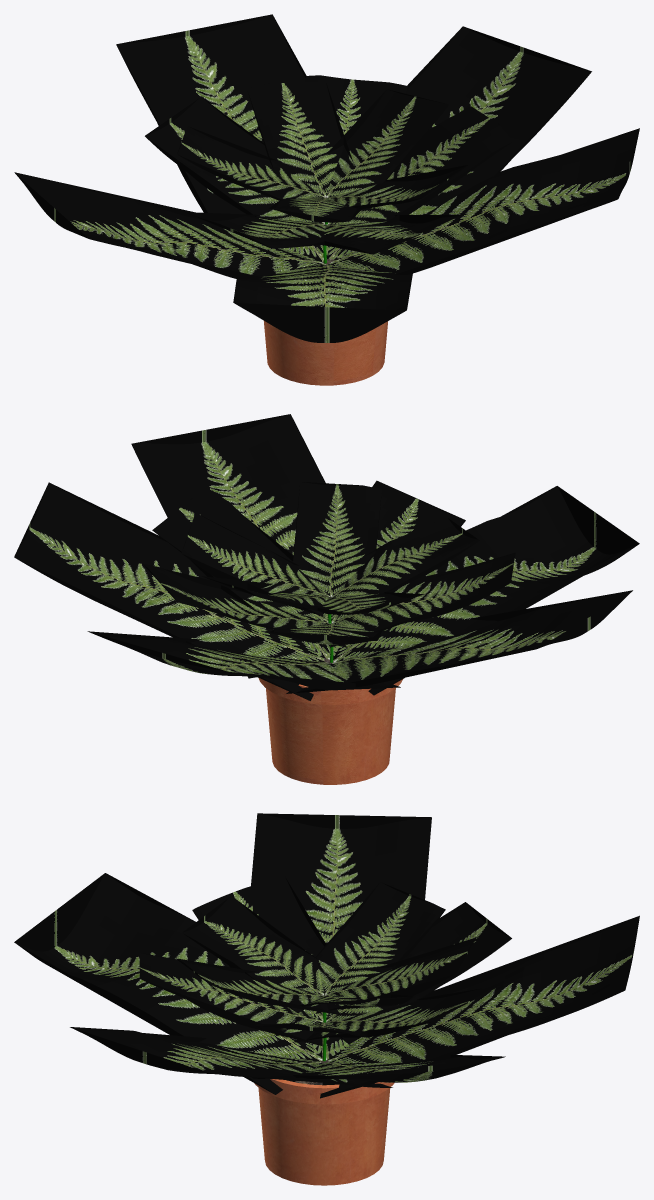
File: plant.fbx
3 renders of one model, top to bottom at view 1: azimuth 30°, elevation 25°; view 2: azimuth 150°, elevation 25°; view 3: azimuth 270°, elevation 25°, orthographic.
Parts seen in each view (by area): view 1: Empty.001, Cylinder; view 2: Empty.001, Cylinder; view 3: Empty.001, Cylinder.
Part boxes in pixels (x1,y1,x2,y2): Empty.001: (14,14,639,342); Cylinder: (264,321,387,385); Empty.001: (14,414,639,700); Cylinder: (258,677,402,784); Empty.001: (14,813,639,1098); Cylinder: (254,1079,394,1185).
Size of the model in its own units: 945 by 367 by 931.
18 materials, 17 textured.
